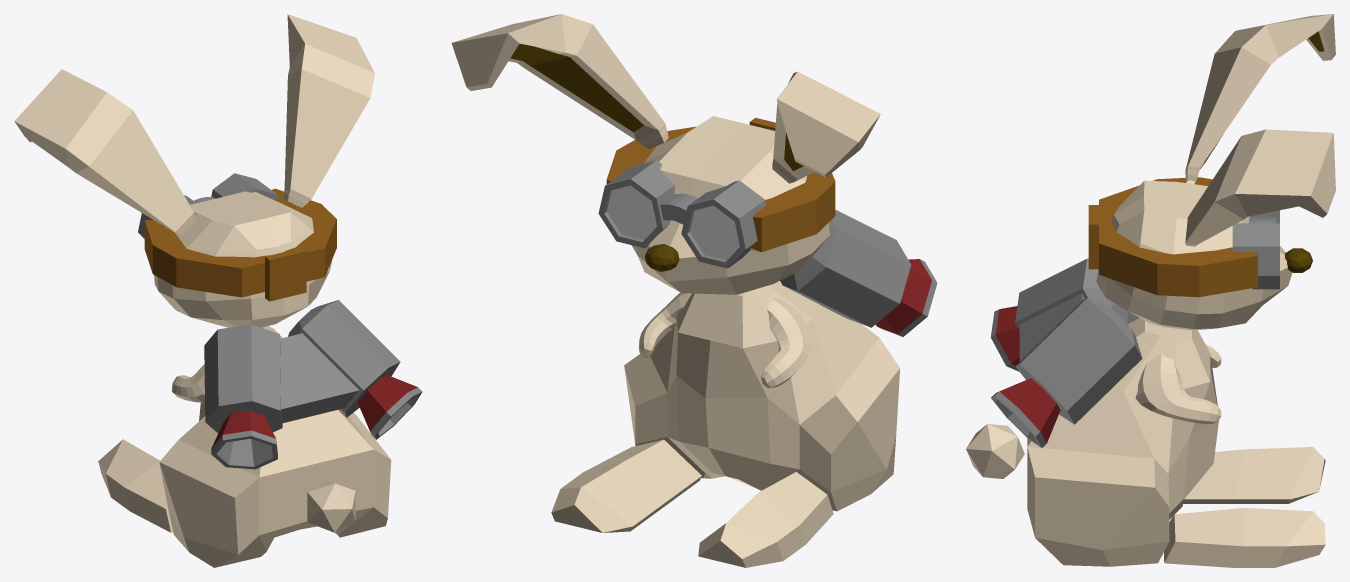
The model's file is Rocket Rabbit2.fbx_Collection.fbx.
The picture shows the model from 3 angles, left to right: view 1: azimuth 30°, elevation 25°; view 2: azimuth 150°, elevation 25°; view 3: azimuth 270°, elevation 25°; orthographic projection. The views are drawn at different scales.
Visible parts, largest first — view 1: CORPO, Jetpack, Orecchio SX, Orecchio DX, TESTA, Cylinder, Piede sx, CODA, arti superiori; view 2: CORPO, Cylinder, TESTA, Orecchio DX, Jetpack, Piede dx., Orecchio SX, Piede sx, arti superiori, Icosphere; view 3: CORPO, Jetpack, Cylinder, TESTA, Orecchio DX, Piede dx., Orecchio SX, Piede sx, arti superiori, CODA, Icosphere.
Boxes of the visible parts, x1=… form: CORPO: x1=159, y1=326, x2=391, y2=567; Jetpack: x1=204, y1=300, x2=422, y2=469; Orecchio SX: x1=14, y1=69, x2=196, y2=236; Orecchio DX: x1=284, y1=14, x2=374, y2=207; TESTA: x1=154, y1=191, x2=332, y2=327; Cylinder: x1=138, y1=173, x2=336, y2=301; Piede sx: x1=98, y1=439, x2=172, y2=532; CODA: x1=307, y1=480, x2=355, y2=532; arti superiori: x1=171, y1=364, x2=204, y2=402; CORPO: x1=624, y1=281, x2=900, y2=511; Cylinder: x1=598, y1=117, x2=835, y2=268; TESTA: x1=631, y1=116, x2=829, y2=294; Orecchio DX: x1=451, y1=14, x2=668, y2=149; Jetpack: x1=780, y1=209, x2=937, y2=336; Piede dx.: x1=551, y1=439, x2=701, y2=532; Orecchio SX: x1=772, y1=71, x2=880, y2=183; Piede sx: x1=698, y1=472, x2=833, y2=567; arti superiori: x1=639, y1=292, x2=811, y2=388; Icosphere: x1=645, y1=244, x2=679, y2=271; CORPO: x1=1027, y1=318, x2=1218, y2=566; Jetpack: x1=990, y1=258, x2=1142, y2=447; Cylinder: x1=1088, y1=177, x2=1279, y2=297; TESTA: x1=1096, y1=180, x2=1292, y2=330; Orecchio DX: x1=1185, y1=129, x2=1335, y2=246; Piede dx.: x1=1164, y1=508, x2=1325, y2=567; Orecchio SX: x1=1185, y1=14, x2=1335, y2=184; Piede sx: x1=1183, y1=447, x2=1325, y2=503; arti superiori: x1=1135, y1=344, x2=1221, y2=423; CODA: x1=966, y1=424, x2=1024, y2=478; Icosphere: x1=1285, y1=248, x2=1312, y2=272.
Bounding box in the file's own units: 406 × 470 × 353.
